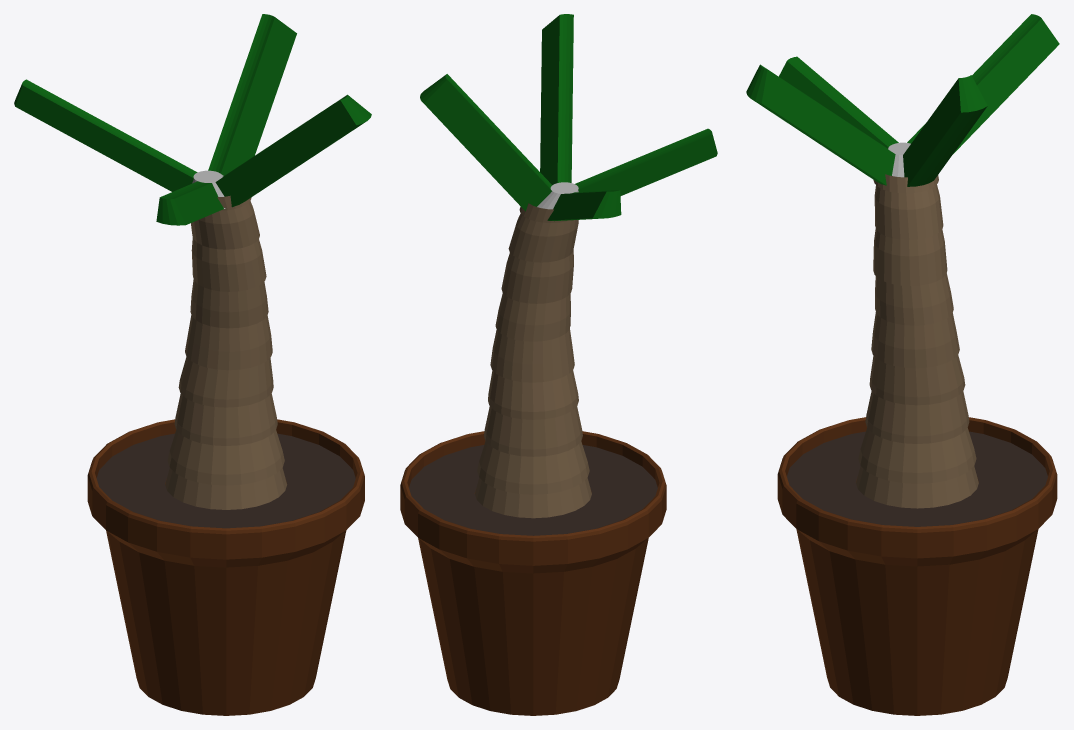
File: bouncerPalm.fbx
3 renders of one model, left to right at view 1: azimuth 30°, elevation 25°; view 2: azimuth 150°, elevation 25°; view 3: azimuth 270°, elevation 25°, orthographic. The views are drawn at different scales.
Visible parts, largest first — view 1: Pot, Trunk, PropellerTop; view 2: Pot, Trunk, PropellerTop; view 3: Pot, Trunk, PropellerTop.
Part boxes in pixels (x1,y1,x2,y2): Pot: (87, 419, 364, 715); Trunk: (165, 195, 287, 509); PropellerTop: (14, 14, 371, 225); Pot: (400, 431, 666, 715); Trunk: (475, 203, 591, 518); PropellerTop: (420, 14, 717, 221); Pot: (777, 417, 1057, 715); Trunk: (856, 174, 978, 508); PropellerTop: (746, 14, 1059, 186).
Bounding box in the file's own units: 25.43 × 25.26 × 56.32.
